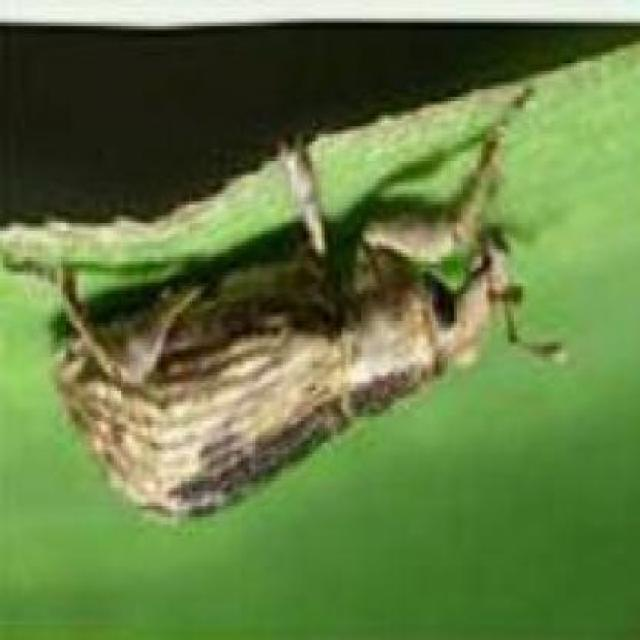rice-bug: (53, 137, 533, 534)
